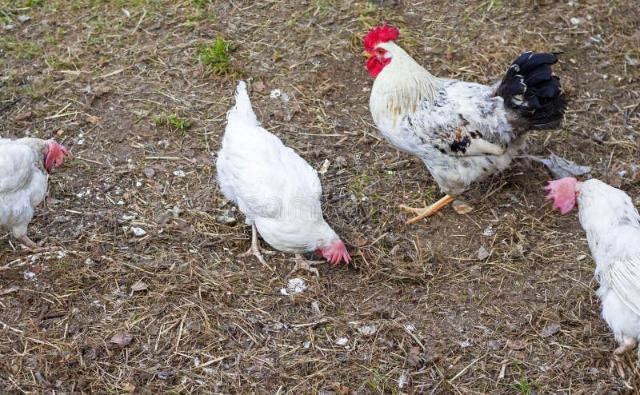Chicken: (359, 23, 567, 226), (217, 82, 353, 272), (542, 179, 640, 378), (0, 136, 70, 248)
